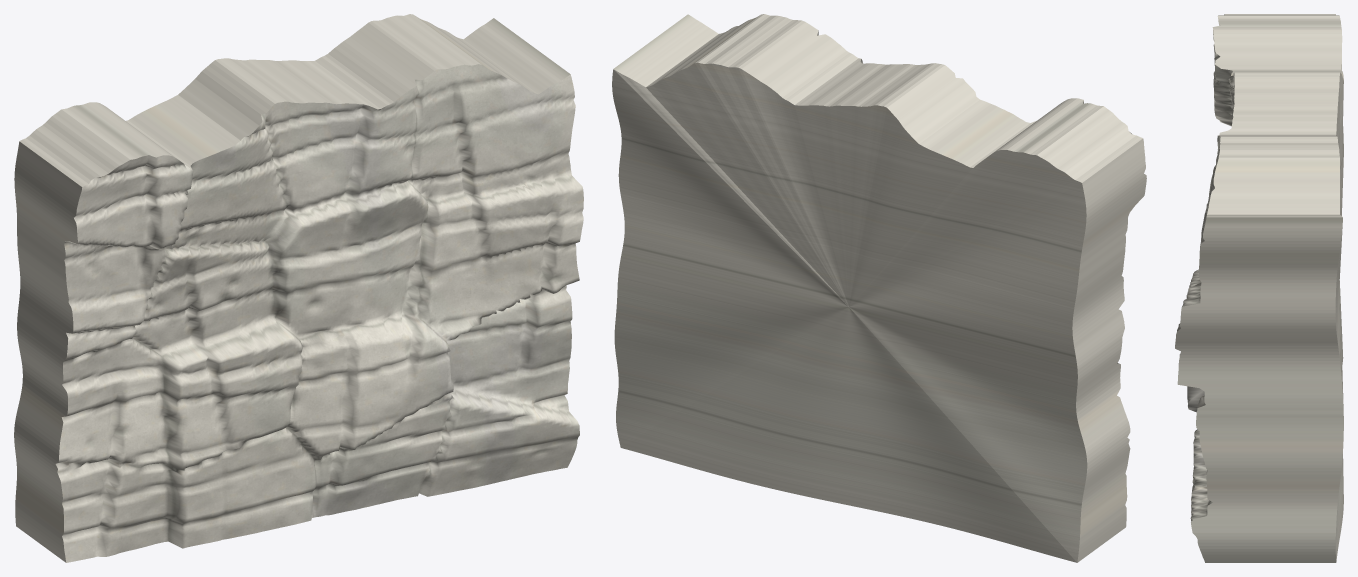
Rendered from rock-lod0.glb.
3 views of the same model, side by side, from view 1: azimuth 30°, elevation 25°; view 2: azimuth 150°, elevation 25°; view 3: azimuth 270°, elevation 25° (orthographic). The views are drawn at different scales.
Parts seen in each view (by area): view 1: Rock_LOD0; view 2: Rock_LOD0; view 3: Rock_LOD0.
Part boxes in pixels (x1,y1,x2,y2): Rock_LOD0: (14,14,583,562); Rock_LOD0: (612,14,1146,562); Rock_LOD0: (1175,14,1343,562).
Bounding box in the file's own units: 12.07 × 10.02 × 4.1.
Materials: 1 (1 with a texture image).
